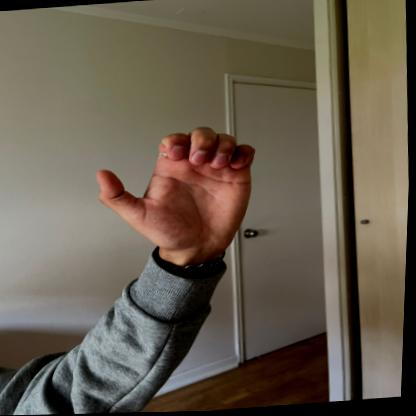E: (91, 114, 270, 253)
